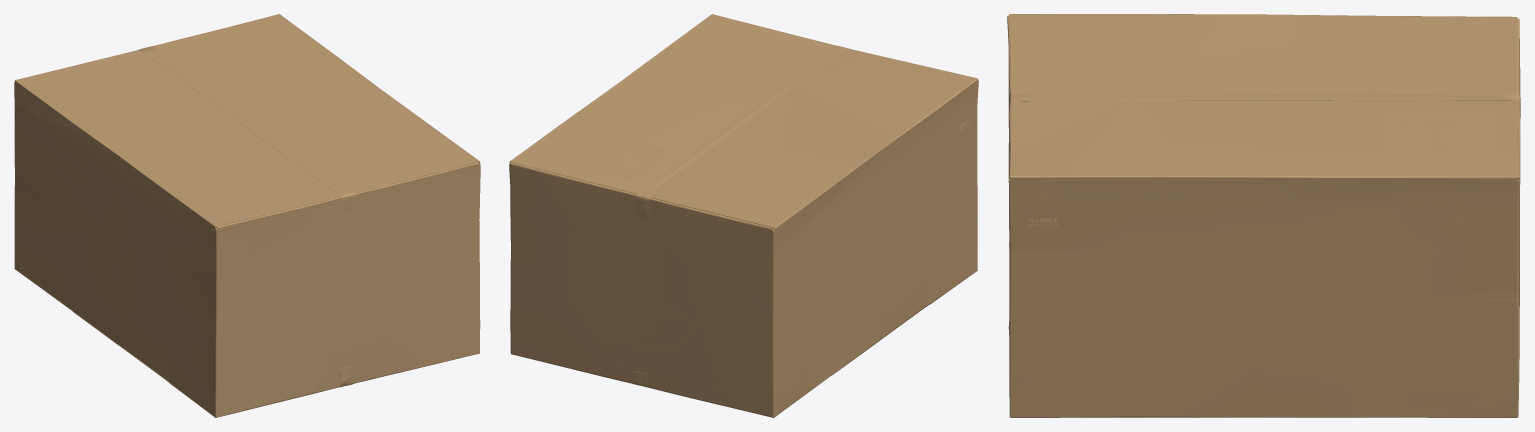
Rendered from box_corrugated_white_b28.glb.
3 renders of one model, left to right at view 1: azimuth 30°, elevation 25°; view 2: azimuth 150°, elevation 25°; view 3: azimuth 270°, elevation 25°, orthographic. The views are drawn at different scales.
Bounding box in the file's own units: 0.2221 × 0.1539 × 0.2942.
